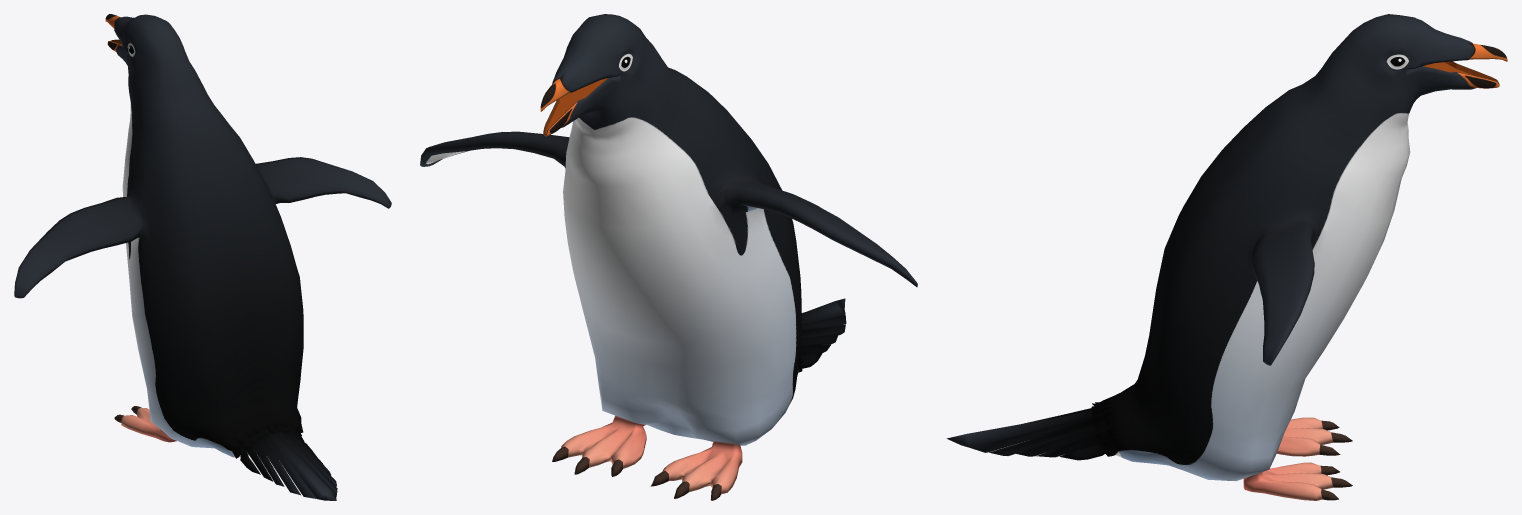
Rendered from Adelie00.fbx.
The picture shows the model from 3 angles, left to right: view 1: azimuth 30°, elevation 25°; view 2: azimuth 150°, elevation 25°; view 3: azimuth 270°, elevation 25°; orthographic projection. The views are drawn at different scales.
Parts seen in each view (by area): view 1: adelie; view 2: adelie; view 3: adelie.
Boxes of the visible parts, x1=… form: adelie: x1=14, y1=14, x2=391, y2=500; adelie: x1=420, y1=14, x2=917, y2=500; adelie: x1=946, y1=14, x2=1507, y2=500.
Size of the model in its own units: 0.5664 by 0.527 by 0.6004.
